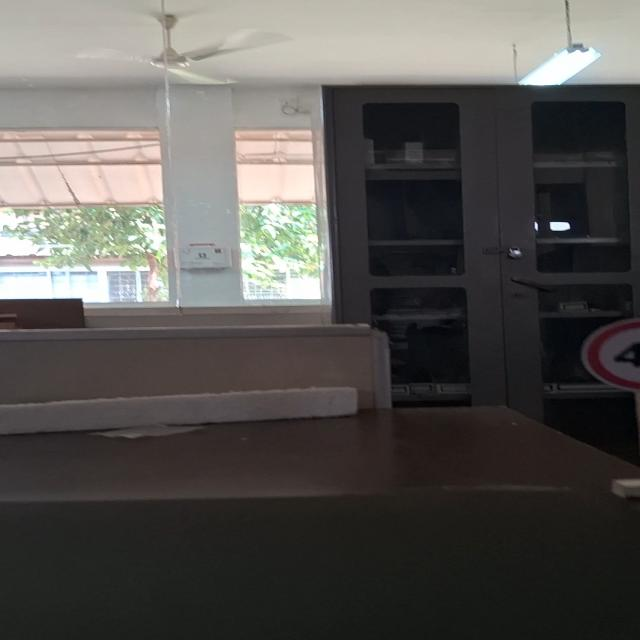Speed40: (576, 316, 640, 396)
